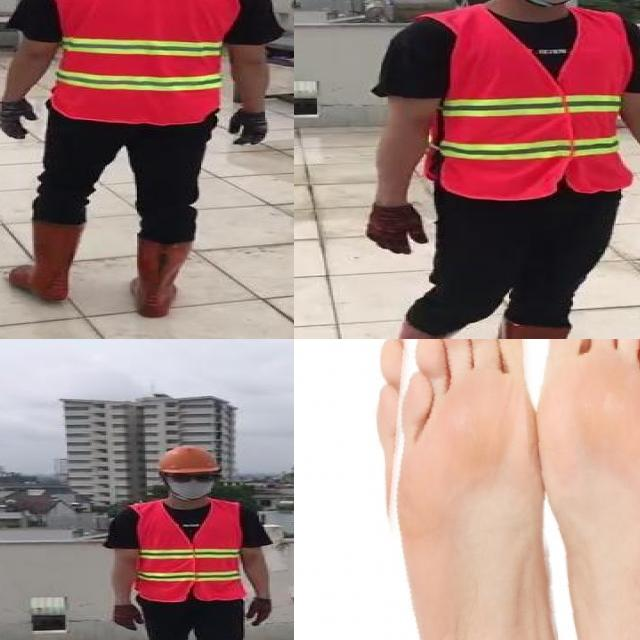Barefoots: (371, 339, 588, 640), (540, 339, 640, 640)
boots: (9, 216, 84, 303), (134, 237, 190, 319), (491, 316, 601, 339), (380, 318, 450, 339)
face_mask: (166, 468, 216, 499)
glasses: (159, 466, 220, 484)
hand_glove: (365, 204, 429, 252), (0, 100, 39, 139), (228, 108, 268, 146), (112, 604, 144, 632), (247, 598, 275, 628)
head_helmet: (150, 446, 228, 476)
person: (332, 0, 640, 339), (0, 0, 289, 322), (111, 441, 280, 640)
vest: (432, 9, 632, 199), (48, 0, 234, 126), (129, 500, 247, 601)
